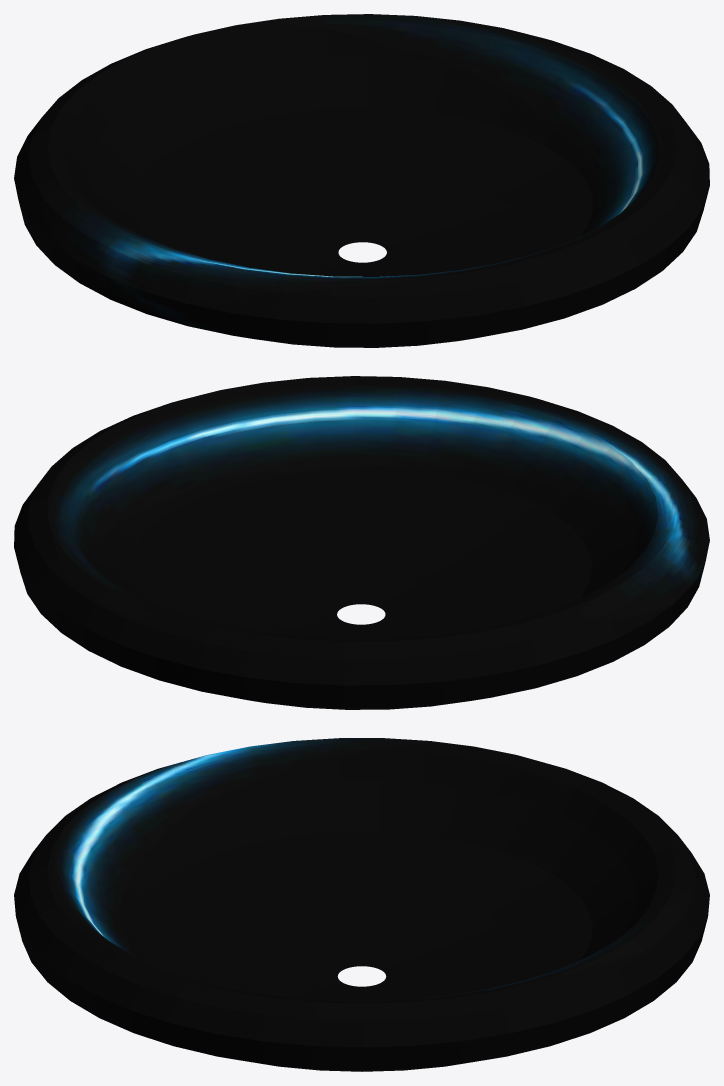
Rendered from 0397_qiliu.glb.
3 renders of one model, top to bottom at view 1: azimuth 30°, elevation 25°; view 2: azimuth 150°, elevation 25°; view 3: azimuth 270°, elevation 25°, orthographic.
Bounding box in the file's own units: 2.2 × 0.3679 × 2.2.
Materials: 1 (1 with a texture image).
